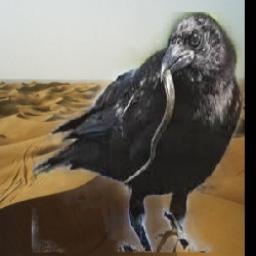Crow: (32, 13, 243, 254)
